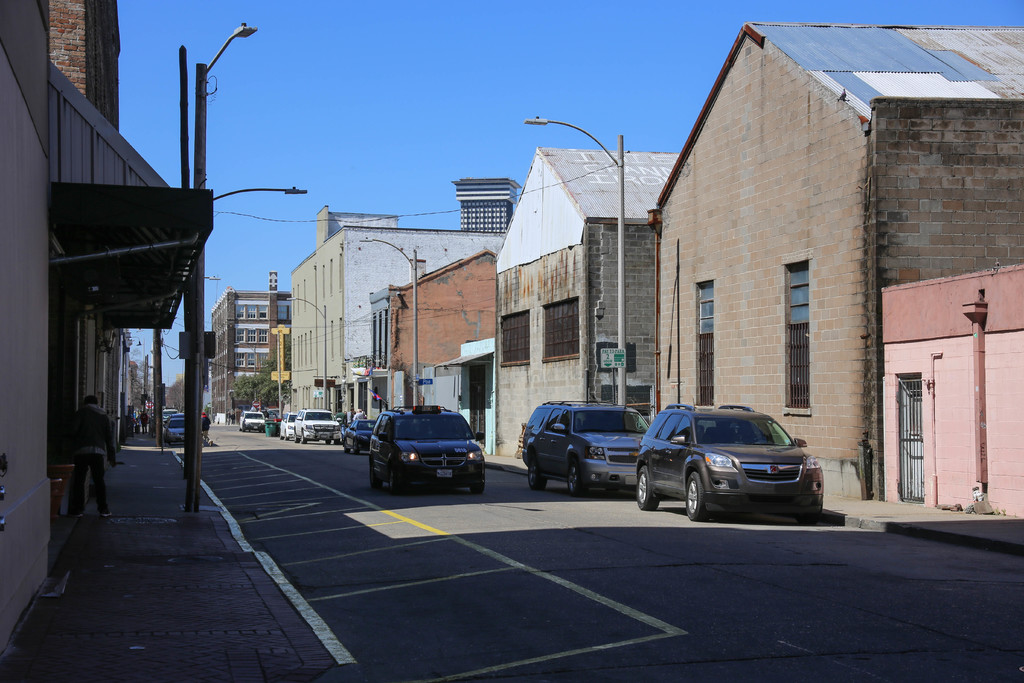Car: (638, 399, 828, 520), (520, 399, 646, 493), (366, 404, 487, 492), (293, 404, 343, 443), (341, 418, 376, 454), (275, 411, 300, 440), (161, 414, 185, 443), (236, 409, 265, 432)
